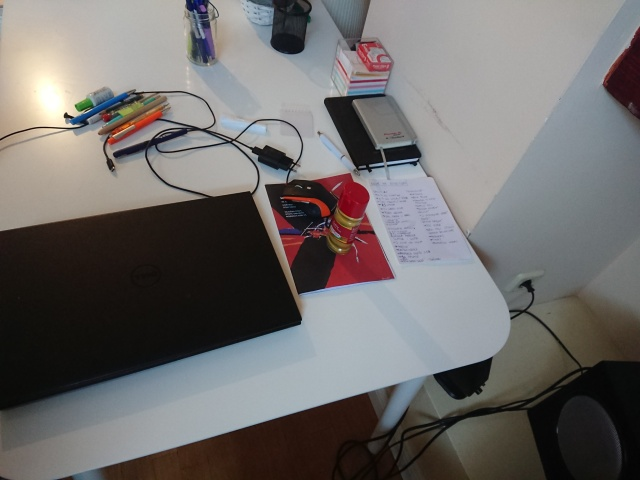Kotanyi Curry Spices Mix 70g: (324, 180, 372, 258)
